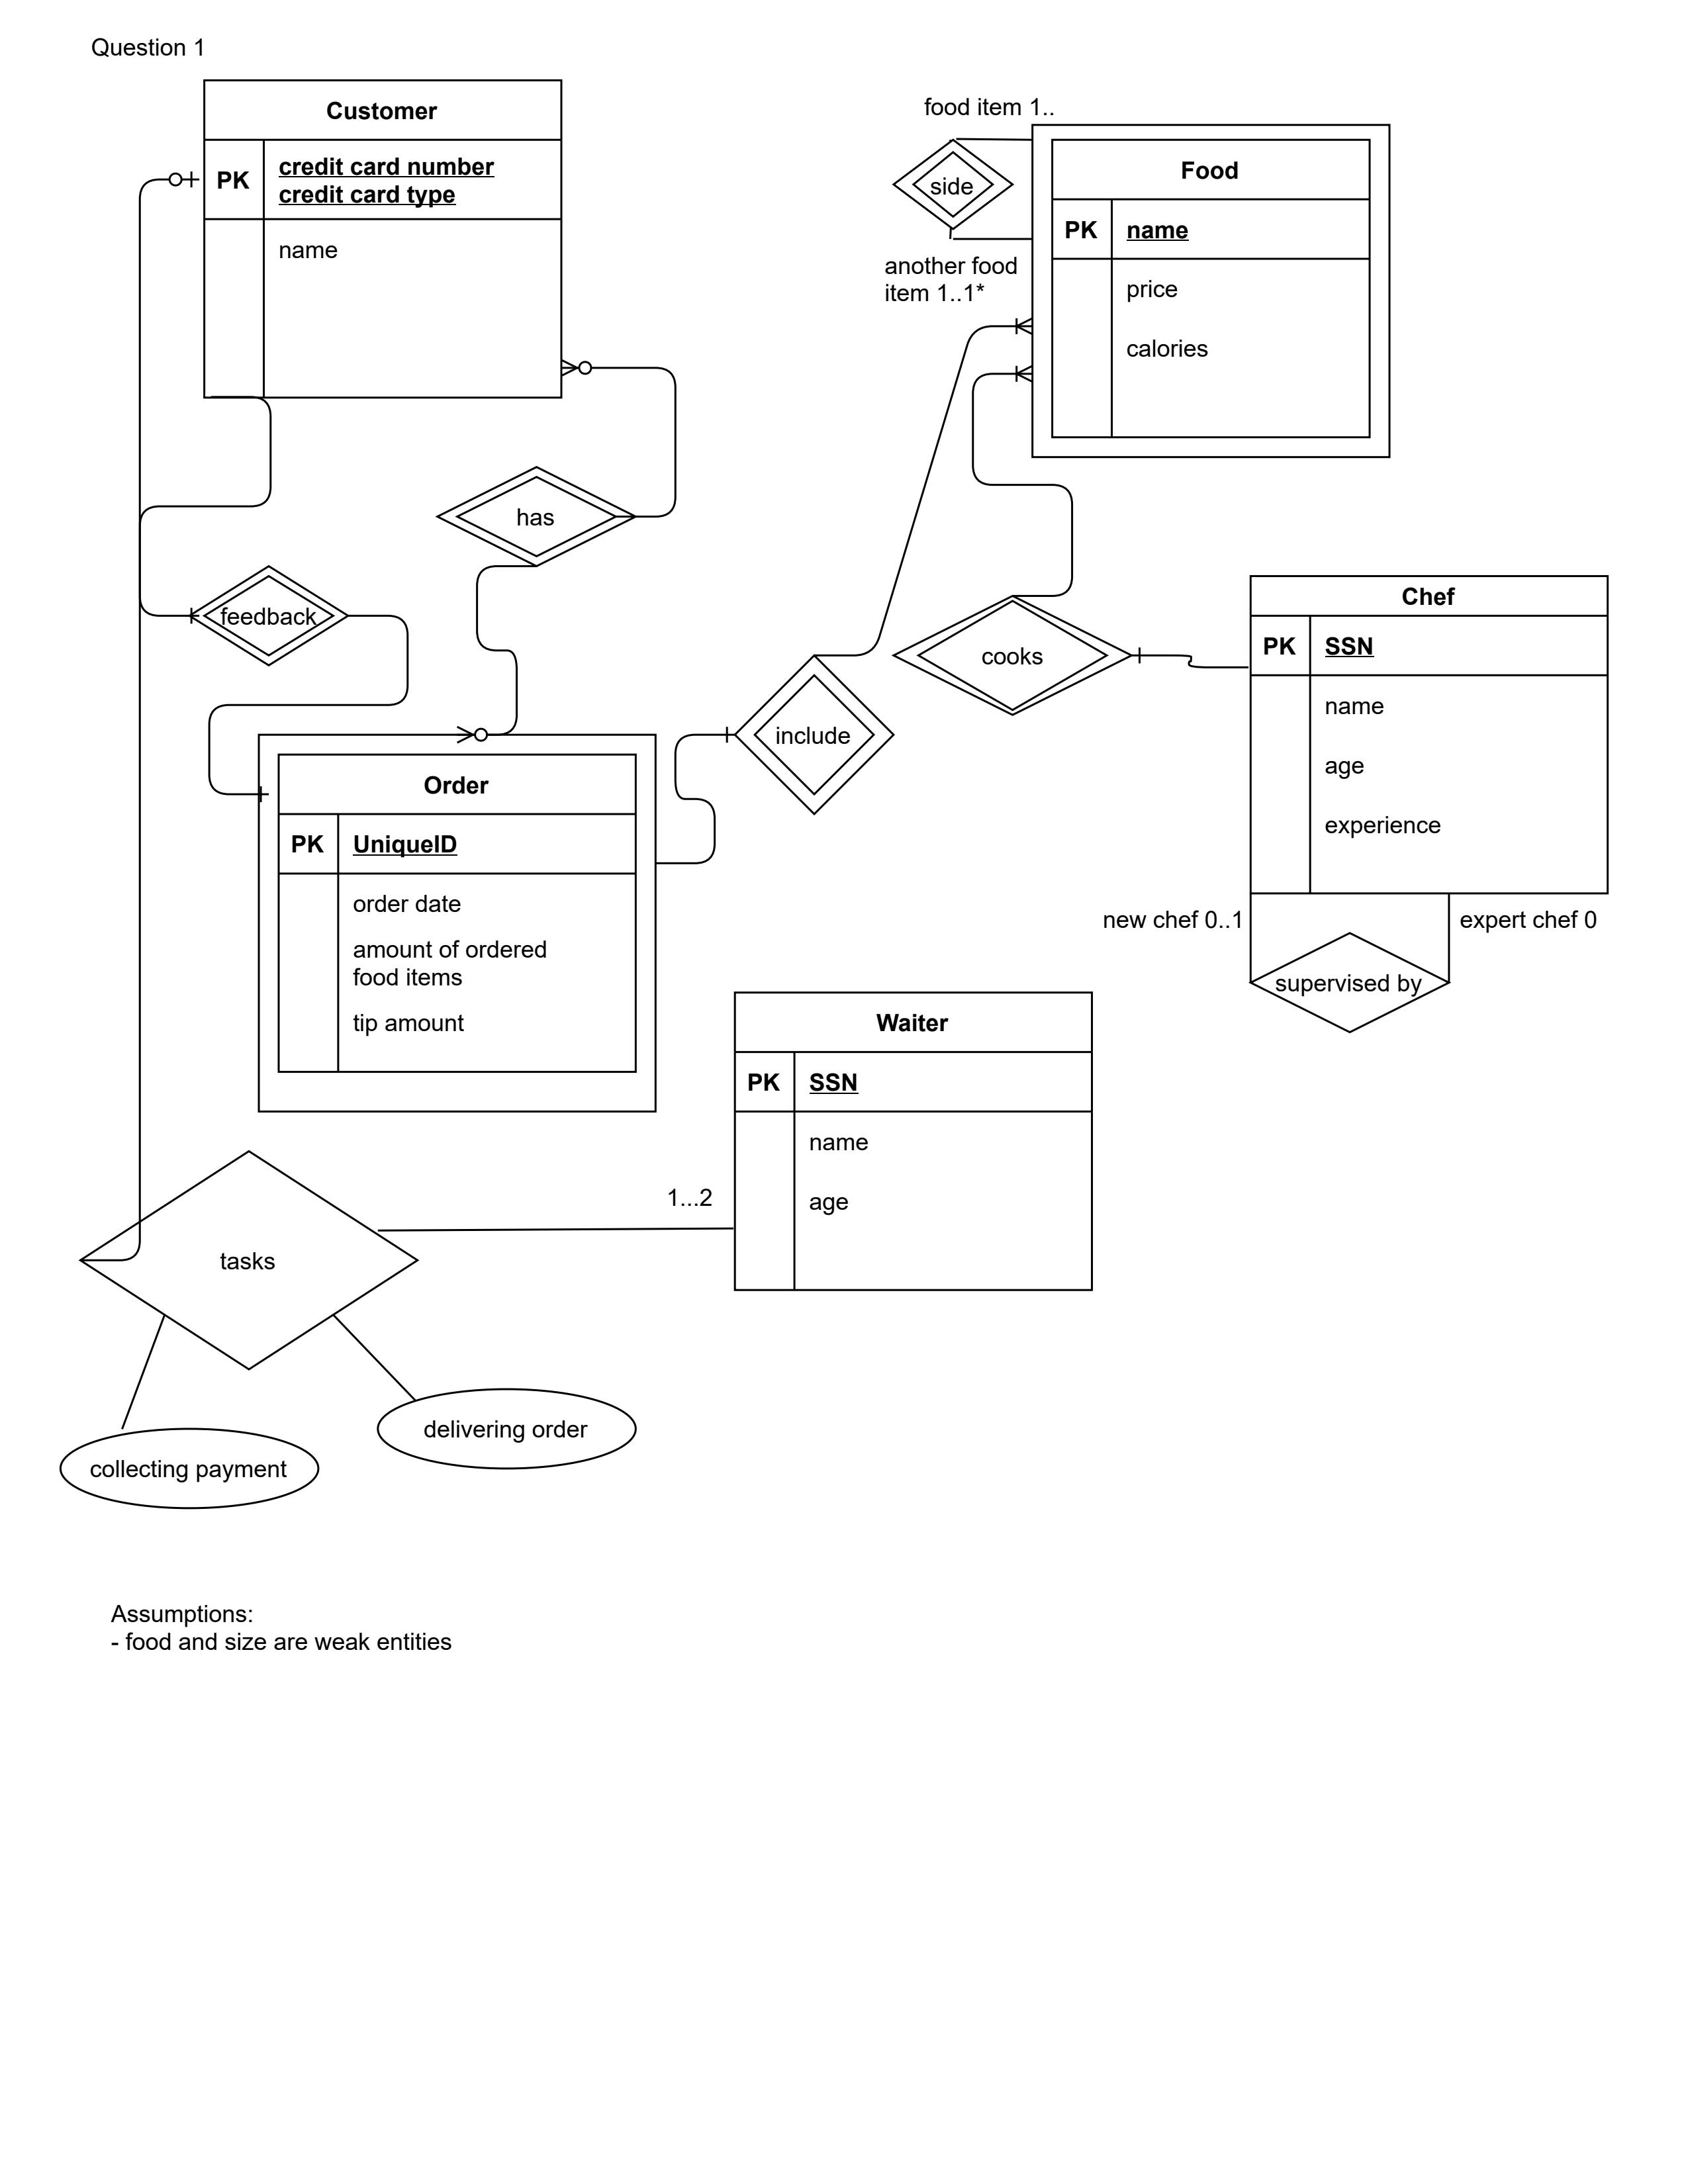Attribute: (376, 1386, 638, 1471), (59, 1427, 319, 1510)
Entity: (255, 732, 658, 1113), (1030, 122, 1392, 459), (1248, 573, 1612, 895), (202, 78, 564, 399), (732, 991, 1094, 1292)
Relationship: (80, 1149, 420, 1372), (892, 594, 1133, 714), (734, 656, 895, 815), (1250, 931, 1450, 1033), (434, 464, 637, 565), (191, 564, 348, 667), (892, 138, 1016, 230)
